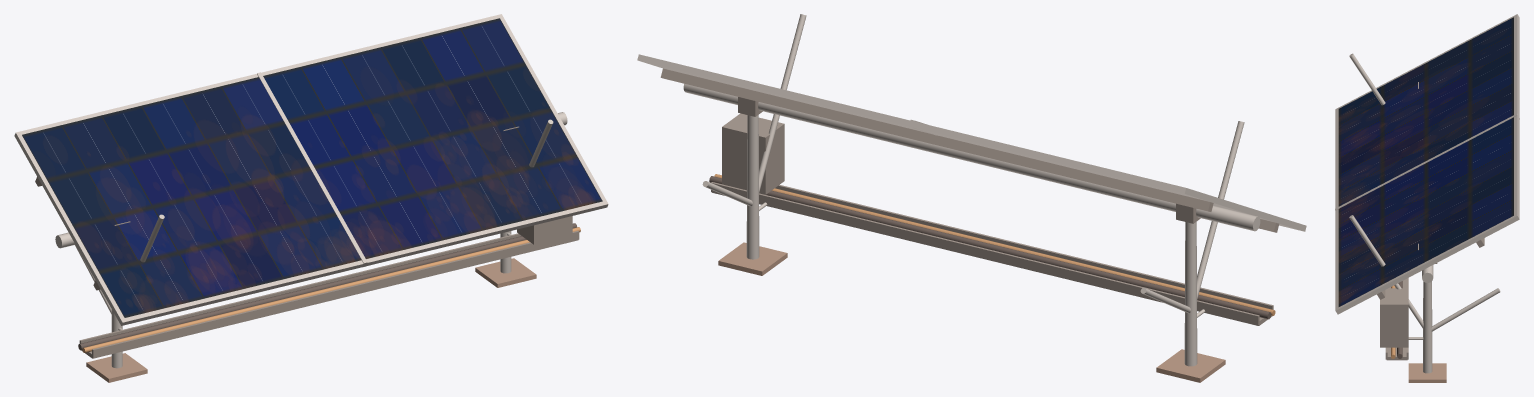
File: E02_solar_row_5m.glb
The picture shows the model from 3 angles, left to right: view 1: azimuth 30°, elevation 25°; view 2: azimuth 150°, elevation 25°; view 3: azimuth 270°, elevation 25°; orthographic projection. The views are drawn at different scales.
Parts seen in each view (by area): view 1: solar_cells, panel_frame, tray_side (×2), cable (×2), post_foot (×2), module_joint, inverter_box, cable_tray; view 2: tray_side (×2), panel_frame, purlin, torque_tube, cable (×2), post (×2), inverter_box, post_foot (×2), strut_back (×2), cable_tray; view 3: solar_cells, panel_frame, inverter_box, post, strut_back (×2), post_foot, module_joint, strut_front, cable_tray, torque_tube.
Boxes of the visible parts, x1,y1,x2,y2 form: solar_cells: (22,18,602,317); panel_frame: (14,14,608,325); tray_side (×2): (79,231,579,358); cable (×2): (78,223,580,352); post_foot (×2): (86,258,536,382); module_joint: (257,72,367,266); inverter_box: (517,216,572,244); cable_tray: (81,240,578,358); tray_side (×2): (711,182,1273,325); panel_frame: (637,54,1306,231); purlin: (660,68,1213,211); torque_tube: (683,83,1260,231); cable (×2): (709,174,1275,319); post (×2): (746,115,1197,366); inverter_box: (722,113,784,194); post_foot (×2): (718,242,1225,382); strut_back (×2): (759,14,1244,299); cable_tray: (712,192,1272,325); solar_cells: (1338,17,1513,306); panel_frame: (1335,14,1519,314); inverter_box: (1380,288,1408,347); post: (1423,281,1432,373); strut_back (×2): (1349,53,1423,328); post_foot: (1408,363,1446,382); module_joint: (1335,113,1519,210); strut_front: (1431,288,1500,331); cable_tray: (1386,279,1407,360); torque_tube: (1422,265,1433,282).
Bounding box in the file's own units: 5.2 × 2.08 × 1.94.
Materials: 6 (1 with a texture image).
